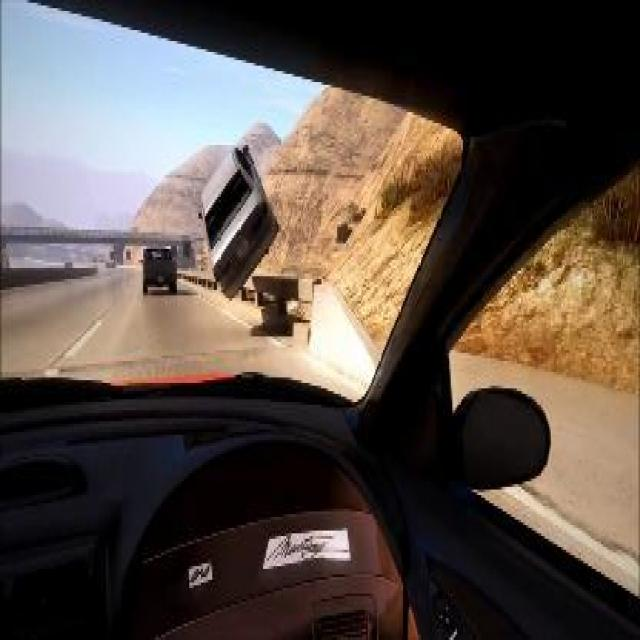accident: (192, 124, 278, 297)
